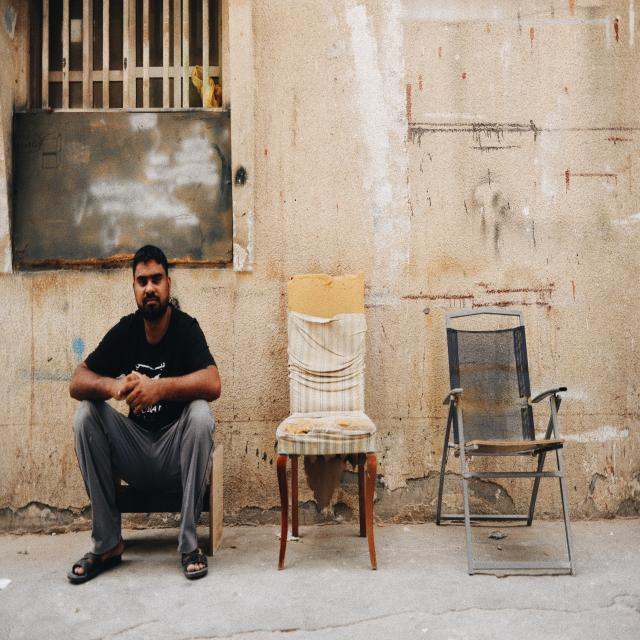nonfall: (68, 232, 224, 593)
